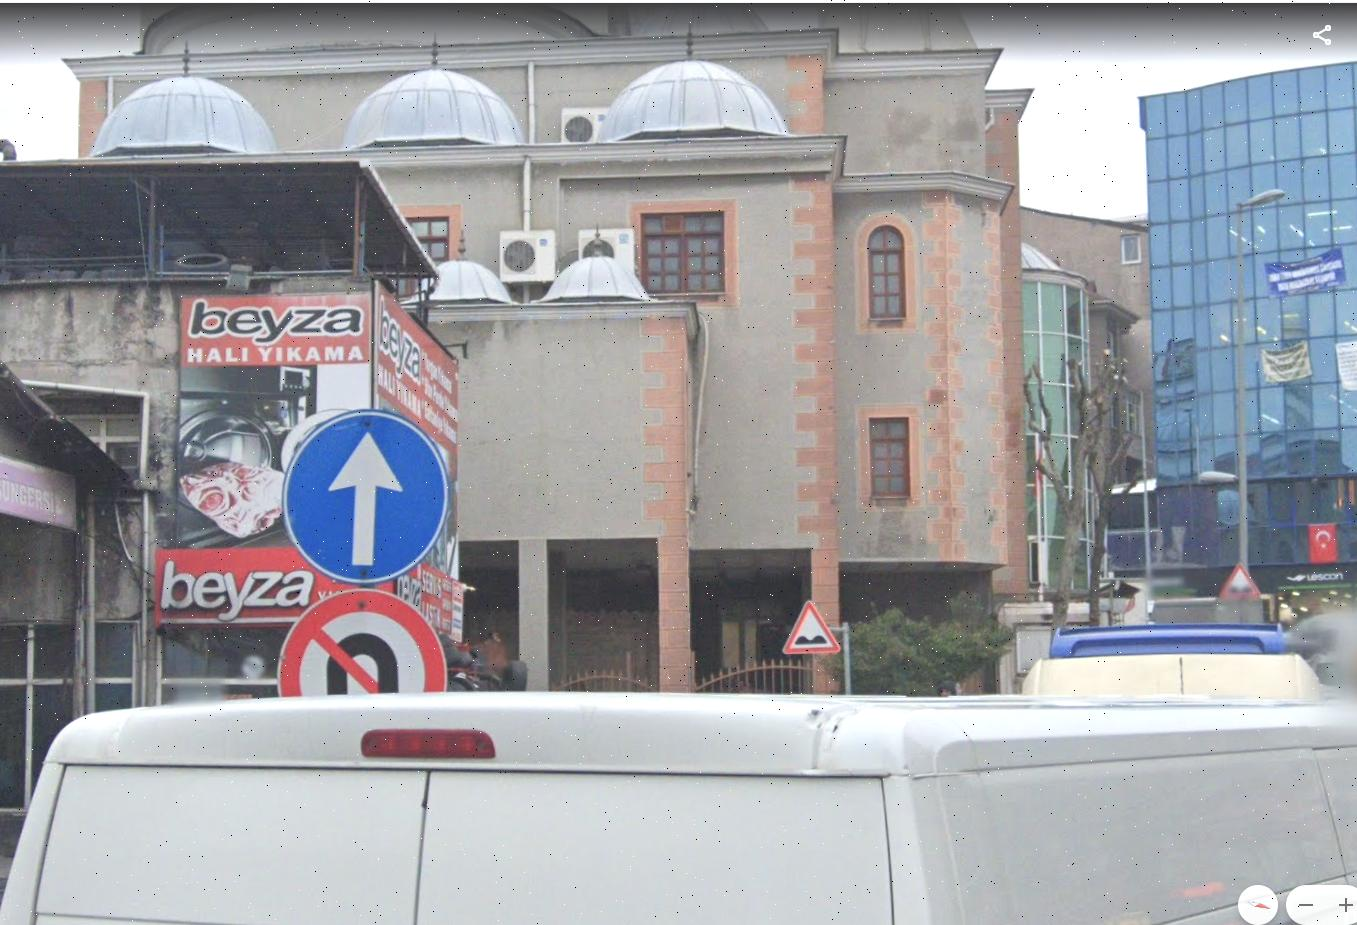forward: (291, 412, 437, 568)
